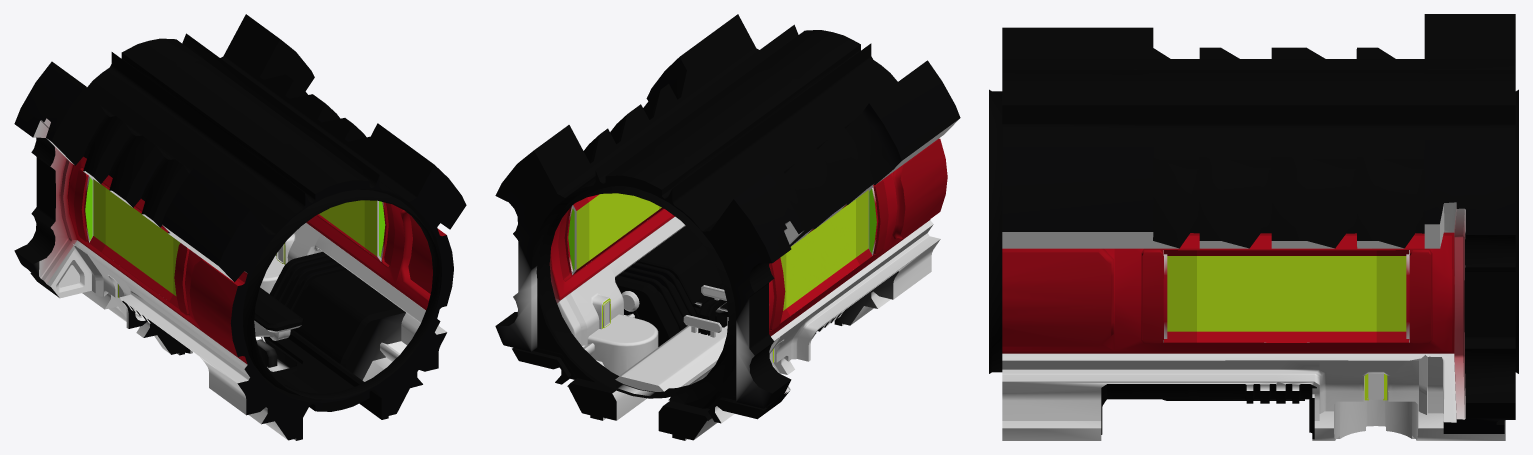
The model's file is part_main-lod0.dae.
3 renders of one model, left to right at view 1: azimuth 30°, elevation 25°; view 2: azimuth 150°, elevation 25°; view 3: azimuth 270°, elevation 25°, orthographic. The views are drawn at different scales.
Visible parts, largest first — view 1: part_main-lod0Xlod0Xp2genericXgen_p2_hulltextureaged_02_b, part_main-lod0Xlod0Xp2genericXgen_p2_hullpattern_01, part_main-lod0Xlod0Xp2genericXgen_p2_hulltexture_02_c, part_main-lod0Xlod0Xp2multimatXp2_multimat_01; view 2: part_main-lod0Xlod0Xp2genericXgen_p2_hulltextureaged_02_b, part_main-lod0Xlod0Xp2genericXgen_p2_hulltexture_02_c, part_main-lod0Xlod0Xp2genericXgen_p2_hullpattern_01, part_main-lod0Xlod0Xp2multimatXp2_multimat_01; view 3: part_main-lod0Xlod0Xp2genericXgen_p2_hulltextureaged_02_b, part_main-lod0Xlod0Xp2genericXgen_p2_hulltexture_02_c, part_main-lod0Xlod0Xp2genericXgen_p2_hullpattern_01, part_main-lod0Xlod0Xp2multimatXp2_multimat_01.
Part boxes in pixels (x1,y1,x2,y2): part_main-lod0Xlod0Xp2genericXgen_p2_hulltextureaged_02_b: (14, 14, 446, 440); part_main-lod0Xlod0Xp2genericXgen_p2_hullpattern_01: (14, 61, 466, 440); part_main-lod0Xlod0Xp2genericXgen_p2_hulltexture_02_c: (87, 38, 402, 301); part_main-lod0Xlod0Xp2multimatXp2_multimat_01: (68, 156, 428, 362); part_main-lod0Xlod0Xp2genericXgen_p2_hulltextureaged_02_b: (496, 14, 947, 440); part_main-lod0Xlod0Xp2genericXgen_p2_hulltexture_02_c: (574, 30, 897, 315); part_main-lod0Xlod0Xp2genericXgen_p2_hullpattern_01: (495, 71, 958, 440); part_main-lod0Xlod0Xp2multimatXp2_multimat_01: (551, 57, 960, 362); part_main-lod0Xlod0Xp2genericXgen_p2_hulltextureaged_02_b: (989, 14, 1518, 440); part_main-lod0Xlod0Xp2genericXgen_p2_hulltexture_02_c: (1002, 70, 1515, 342); part_main-lod0Xlod0Xp2genericXgen_p2_hullpattern_01: (1002, 49, 1515, 433); part_main-lod0Xlod0Xp2multimatXp2_multimat_01: (1002, 39, 1452, 400).
Size of the model in its own units: 25.21 by 22.41 by 32.39.
